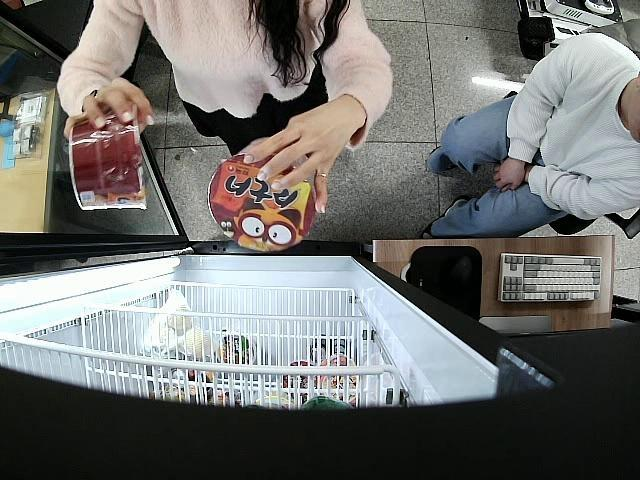05_nuguri_L: (208, 153, 314, 250), (68, 106, 150, 214)
